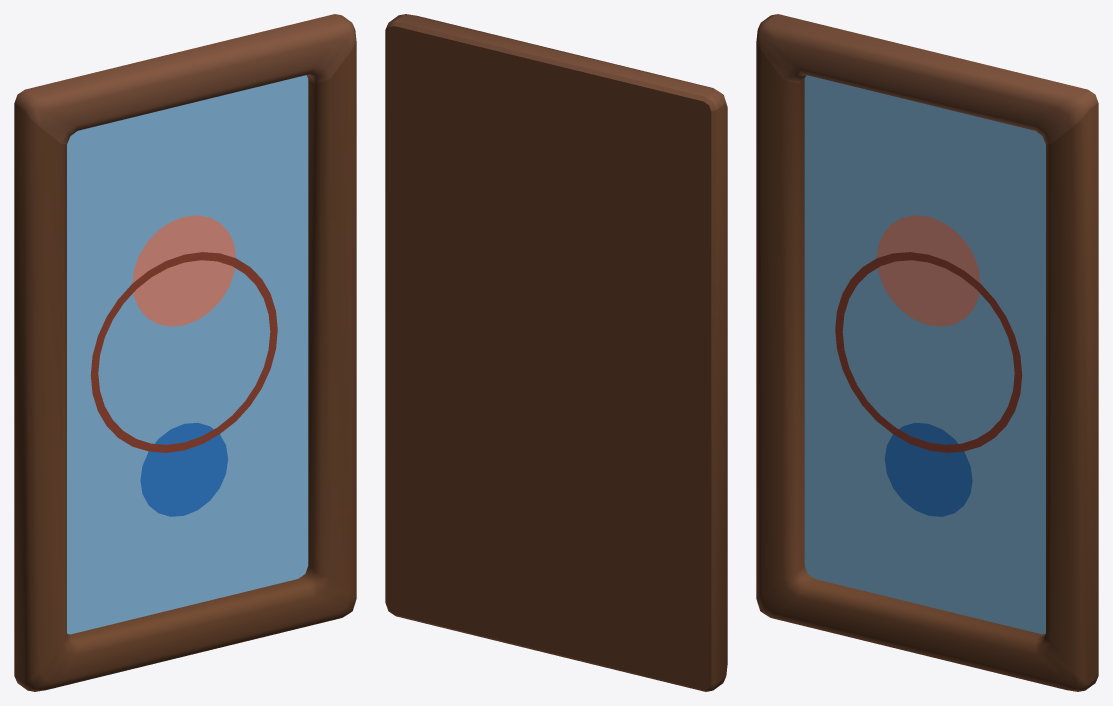
The model's file is quadro_circulos_pacote.glb.
3 views of the same model, side by side, from view 1: azimuth 30°, elevation 25°; view 2: azimuth 150°, elevation 25°; view 3: azimuth 330°, elevation 25° (orthographic).
Visible parts, largest first — view 1: quadro_circulos_pacote; view 2: quadro_circulos_pacote; view 3: quadro_circulos_pacote.
Boxes of the visible parts, box(x1,y1,x2,y2) form: quadro_circulos_pacote: box(14, 14, 356, 691); quadro_circulos_pacote: box(385, 14, 727, 691); quadro_circulos_pacote: box(756, 14, 1098, 691).
Bounding box in the file's own units: 0.384 × 0.66 × 0.036.
1 material, 1 textured.
